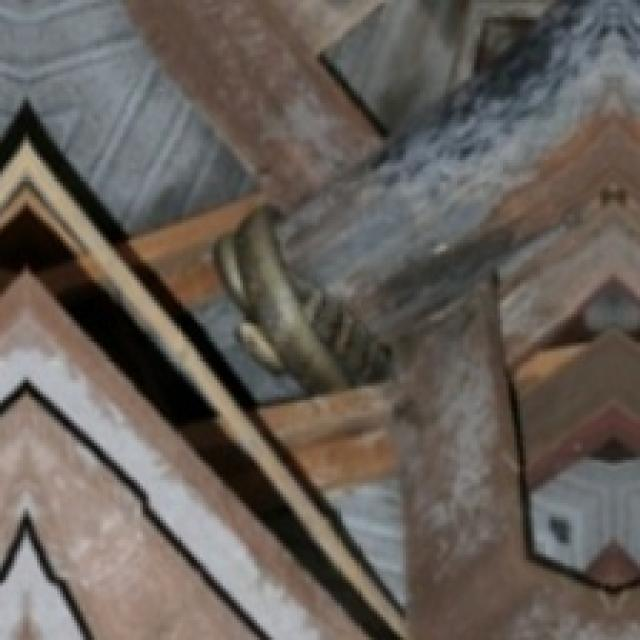king cobra: (280, 0, 637, 637), (214, 206, 389, 389)
